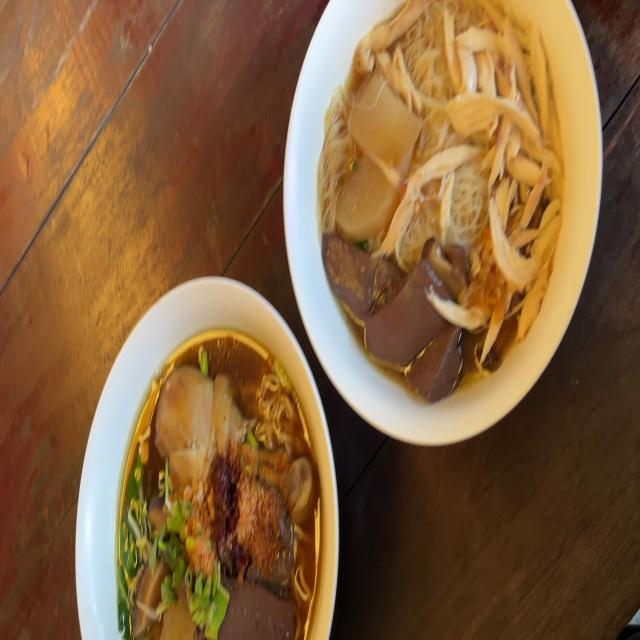boiled_chicken_blood_jelly: (321, 245, 453, 386), (227, 579, 294, 640)
chicken_drumstick: (156, 366, 308, 509)
chicken_shredded: (468, 19, 560, 318)
daikon_radish: (341, 78, 403, 235), (165, 593, 197, 640)
noodle: (315, 0, 567, 397), (115, 350, 330, 640)
